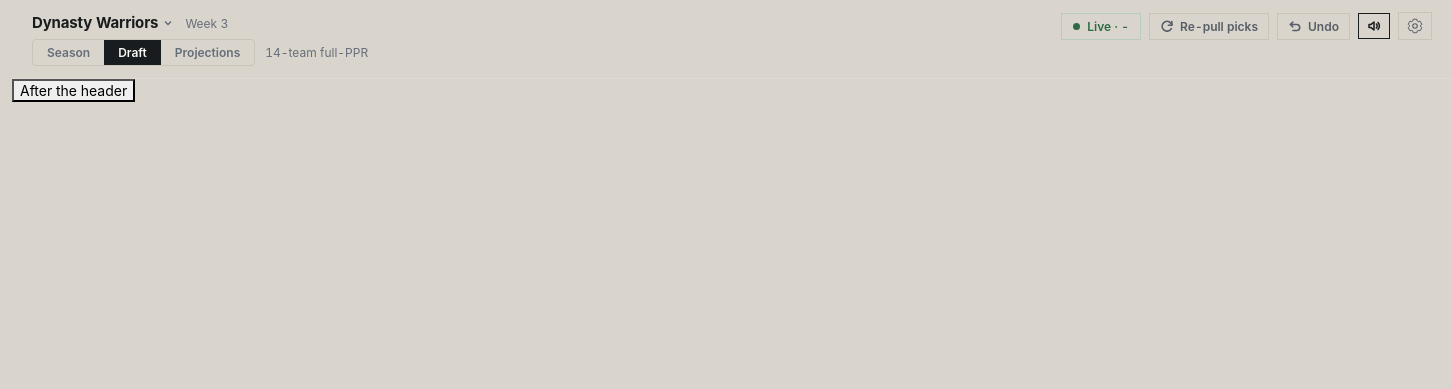
Test: the settings menu › closes itself when the keyboard leaves it, instead of hanging around
Click the button named "Settings".
click(1415, 26)  # box left=1398, top=12, right=1432, bottom=40
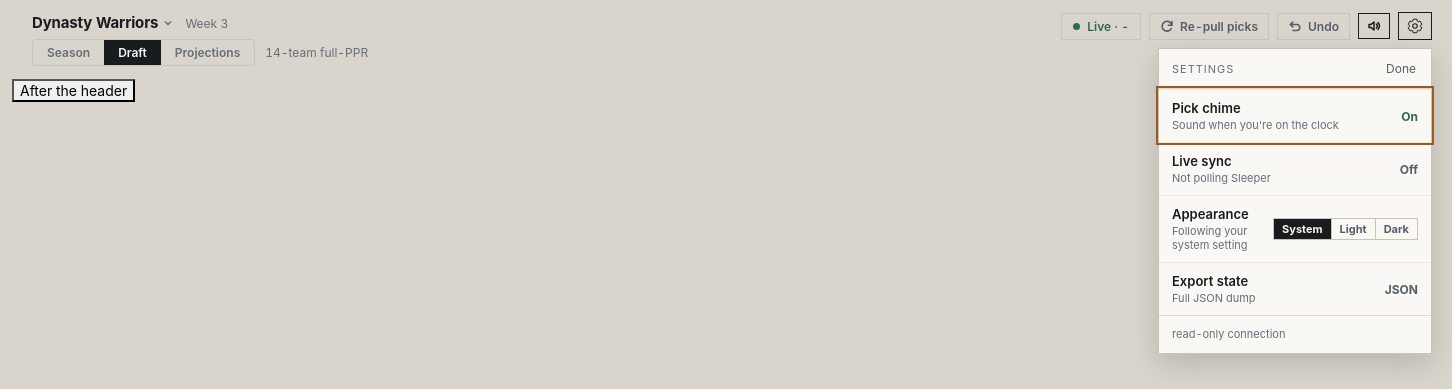
Press Tab
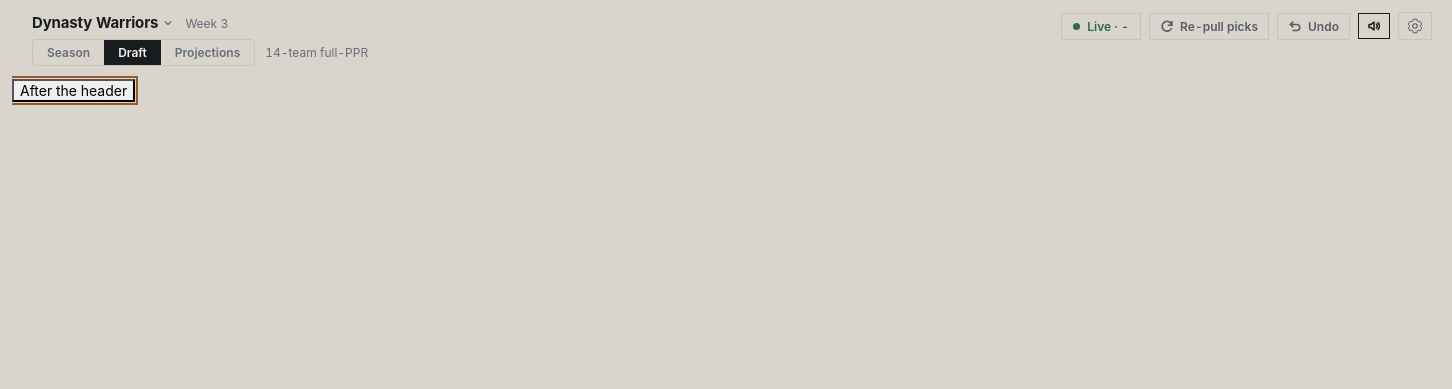
Now the menu is gone
